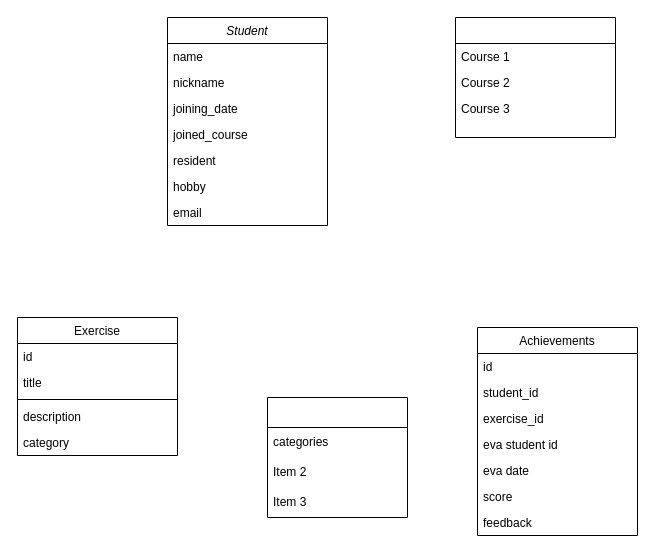
This 655x556 diagram has some shape labels left out. Each missing label, with the box of its shape:
Curriculum: (454, 16, 616, 138)
Projects: (266, 396, 408, 518)
